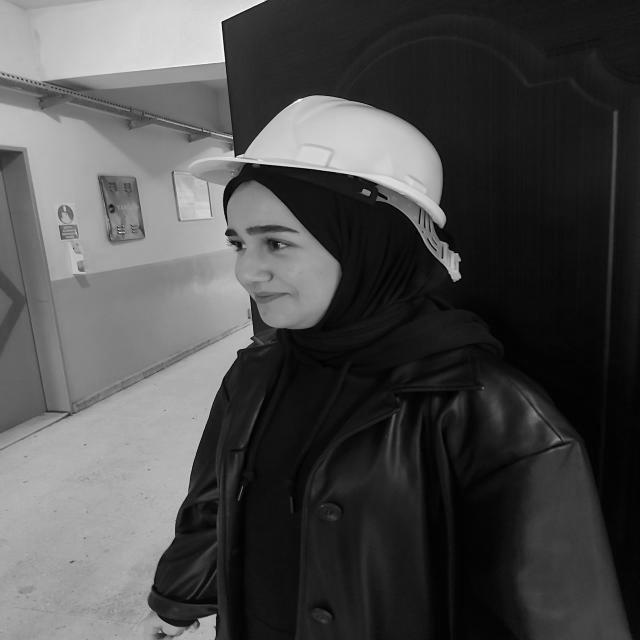construction helmet: (192, 96, 448, 260)
